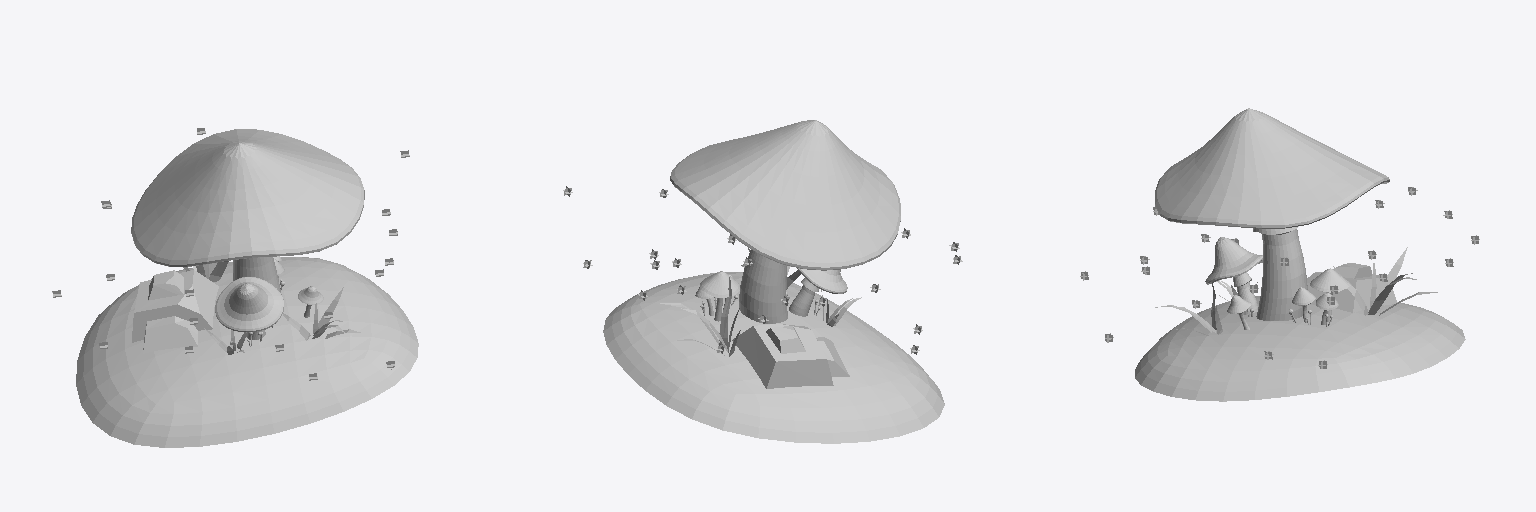
Rendered from Mushroom1OBJ.obj.
3 views of the same model, side by side, from view 1: azimuth 30°, elevation 25°; view 2: azimuth 150°, elevation 25°; view 3: azimuth 270°, elevation 25° (orthographic).
Parts seen in each view (by area): view 1: node_id16_mesh_id17, node_id8_mesh_id9, node_id52_mesh_id53, node_id12_mesh_id13, node_id104_mesh_id105, node_id48_mesh_id49, node_id100_mesh_id101; view 2: node_id16_mesh_id17, node_id8_mesh_id9, node_id52_mesh_id53, node_id12_mesh_id13, node_id104_mesh_id105, node_id36_mesh_id37, node_id20_mesh_id21, node_id48_mesh_id49; view 3: node_id16_mesh_id17, node_id8_mesh_id9, node_id12_mesh_id13, node_id104_mesh_id105, node_id52_mesh_id53, node_id36_mesh_id37, node_id20_mesh_id21.
Part boxes in pixels (x1,y1,x2,y2): node_id16_mesh_id17: (76,257,418,447); node_id8_mesh_id9: (131,129,364,311); node_id52_mesh_id53: (132,270,218,353); node_id12_mesh_id13: (215,277,283,339); node_id104_mesh_id105: (52,128,409,380); node_id48_mesh_id49: (148,270,183,300); node_id100_mesh_id101: (283,287,360,340); node_id16_mesh_id17: (603,272,944,443); node_id8_mesh_id9: (670,120,900,323); node_id52_mesh_id53: (732,324,849,388); node_id12_mesh_id13: (789,268,847,316); node_id104_mesh_id105: (563,186,962,354); node_id36_mesh_id37: (660,277,740,356); node_id20_mesh_id21: (700,271,739,321); node_id48_mesh_id49: (766,326,805,353); node_id16_mesh_id17: (1135,296,1465,401); node_id8_mesh_id9: (1155,108,1389,320); node_id12_mesh_id13: (1205,237,1262,314); node_id104_mesh_id105: (1080,187,1479,368); node_id52_mesh_id53: (1307,272,1397,312); node_id36_mesh_id37: (1333,247,1437,315); node_id20_mesh_id21: (1310,268,1351,321).
Size of the model in its own units: 0.5692 by 0.4006 by 0.552.